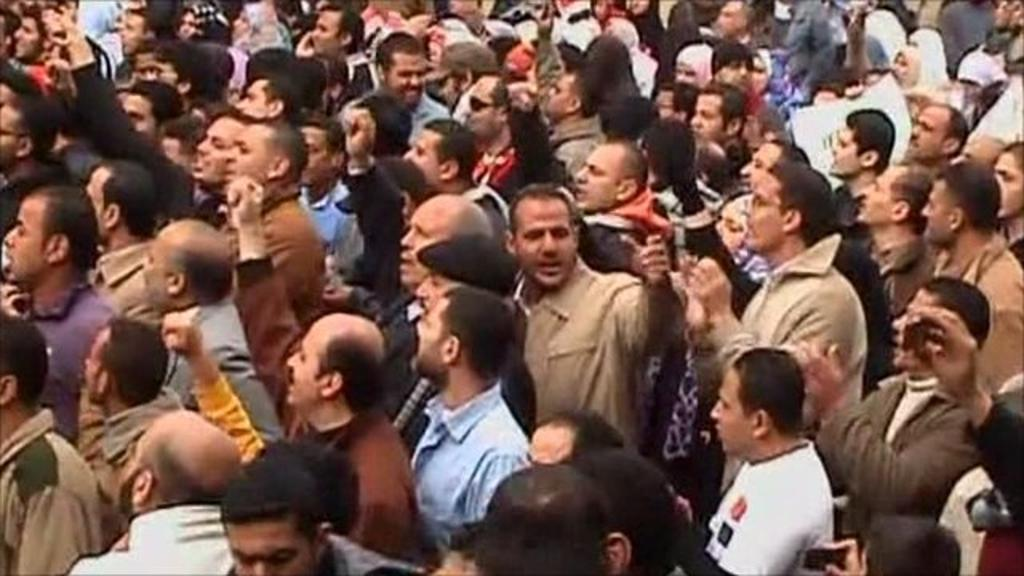face: (517, 201, 575, 288), (526, 427, 583, 514), (226, 521, 311, 576), (401, 199, 454, 284), (890, 289, 941, 367), (708, 371, 753, 457), (3, 196, 48, 282), (119, 429, 164, 511), (193, 122, 245, 185), (744, 179, 786, 254), (283, 330, 321, 407), (224, 128, 269, 193), (142, 236, 182, 306), (859, 167, 905, 226), (81, 166, 118, 237), (412, 300, 445, 376), (401, 129, 442, 190), (84, 332, 119, 403), (573, 147, 611, 211), (920, 177, 954, 246), (741, 144, 785, 192), (463, 77, 496, 139), (388, 53, 424, 108), (992, 153, 1022, 218), (298, 128, 328, 189), (951, 139, 992, 183), (910, 107, 946, 157), (713, 206, 744, 255), (829, 130, 861, 175), (122, 95, 156, 137), (237, 81, 269, 125), (693, 96, 721, 140), (312, 14, 342, 53), (725, 55, 754, 92), (546, 74, 571, 114), (121, 15, 145, 54), (15, 18, 38, 58), (1, 110, 17, 166), (136, 53, 160, 83), (655, 91, 676, 123), (716, 6, 740, 32), (157, 61, 178, 88), (232, 7, 249, 37), (180, 12, 196, 41), (676, 63, 696, 86), (866, 75, 886, 96), (963, 77, 979, 97), (893, 56, 908, 74), (628, 1, 646, 16), (908, 39, 922, 55), (597, 3, 609, 20)
